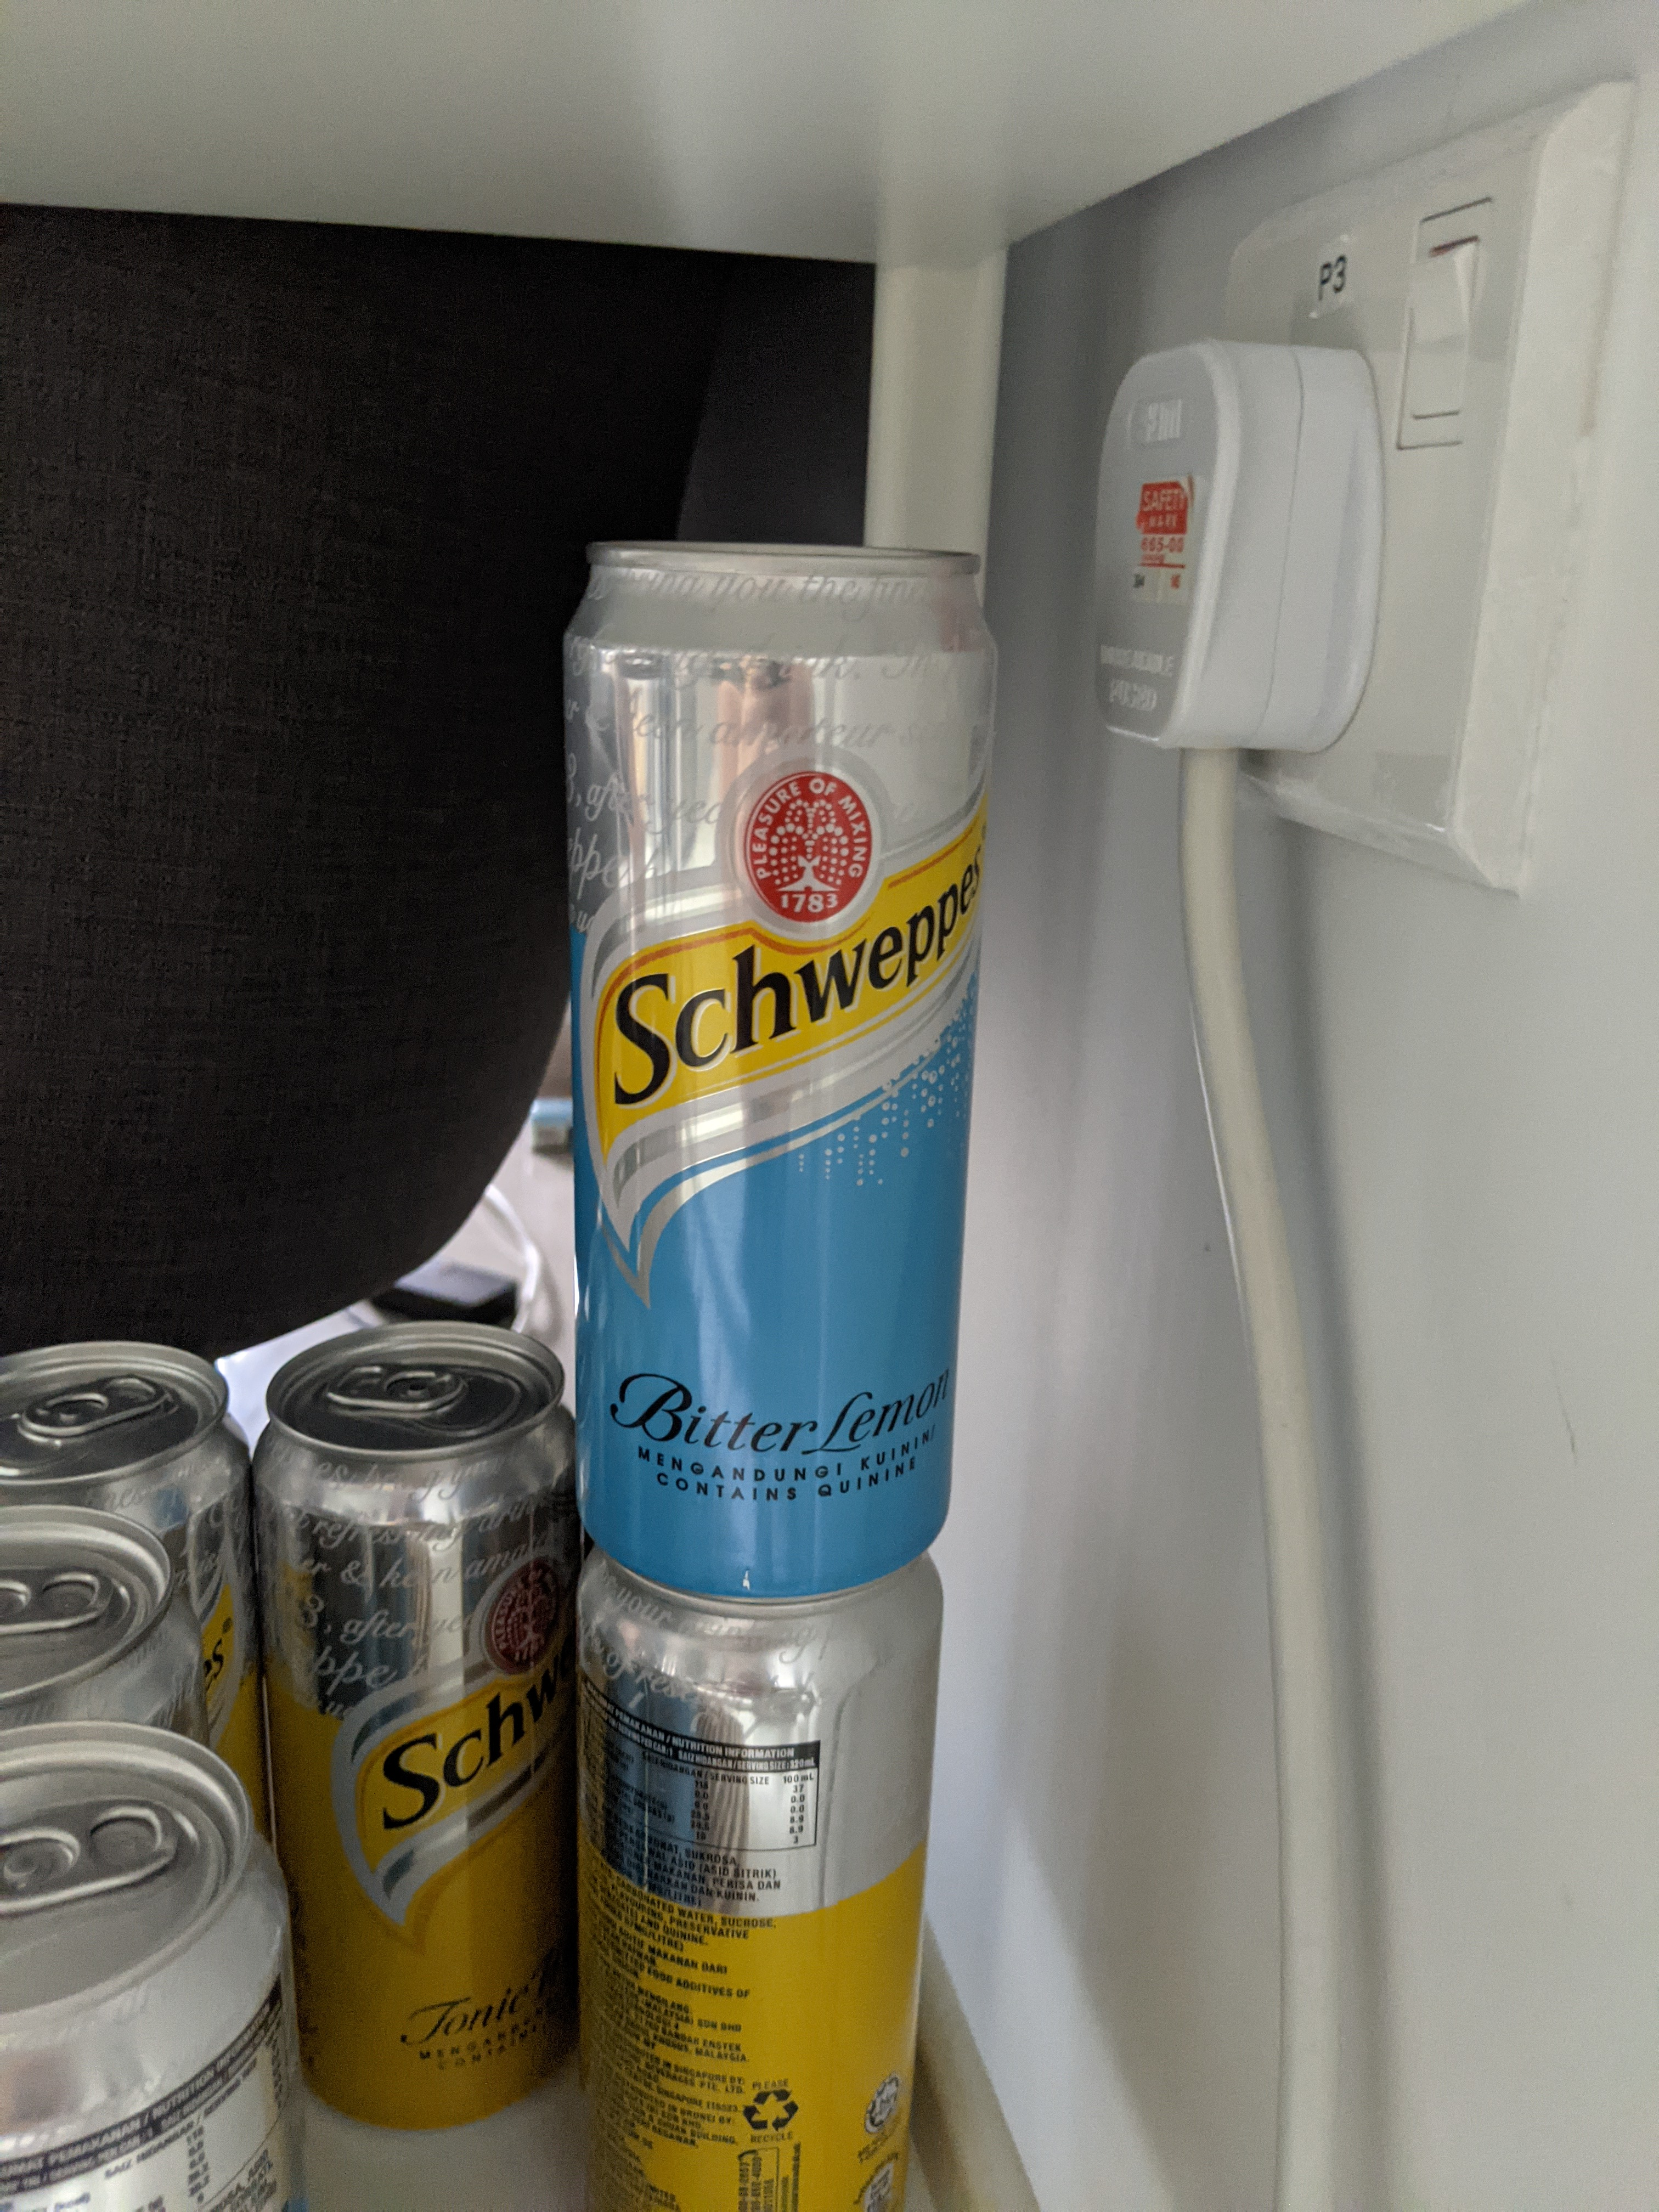schweppes drink can bitter lemon: (525, 496, 1053, 1672)
